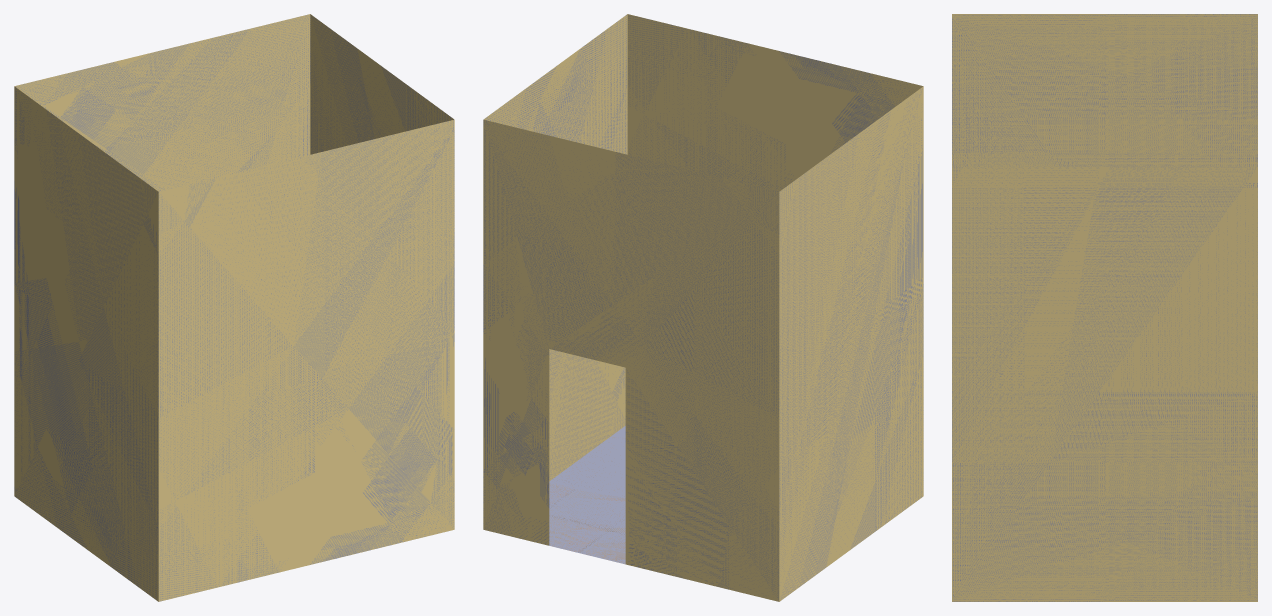
Rendered from CUA004.obj.
The picture shows the model from 3 angles, left to right: view 1: azimuth 30°, elevation 25°; view 2: azimuth 150°, elevation 25°; view 3: azimuth 270°, elevation 25°; orthographic projection. The views are drawn at different scales.
Visible parts, largest first — view 1: Mesh1 CUA004 Model; view 2: Mesh1 CUA004 Model; view 3: Mesh1 CUA004 Model.
Boxes of the visible parts, x1,y1,x2,y2 form: Mesh1 CUA004 Model: [14, 14, 454, 601]; Mesh1 CUA004 Model: [483, 14, 923, 601]; Mesh1 CUA004 Model: [952, 14, 1257, 601].
Size of the model in its own units: 3.1 by 4.11 by 2.62.
Materials: 3 (1 with a texture image).
